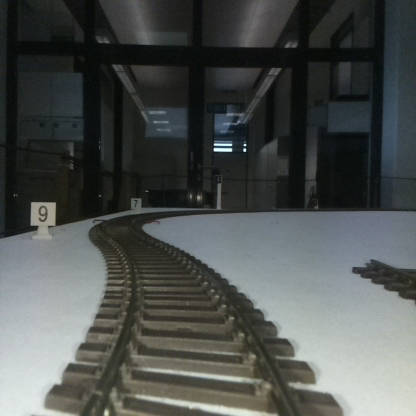black-info-4: (214, 172, 222, 209)
white-stop-7: (131, 197, 141, 213)
white-stop-9: (30, 201, 55, 238)
